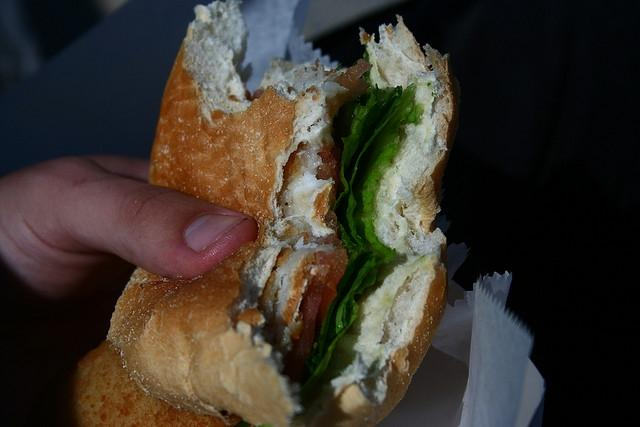lettuce: (333, 72, 402, 266), (352, 82, 420, 266), (326, 257, 376, 343)
